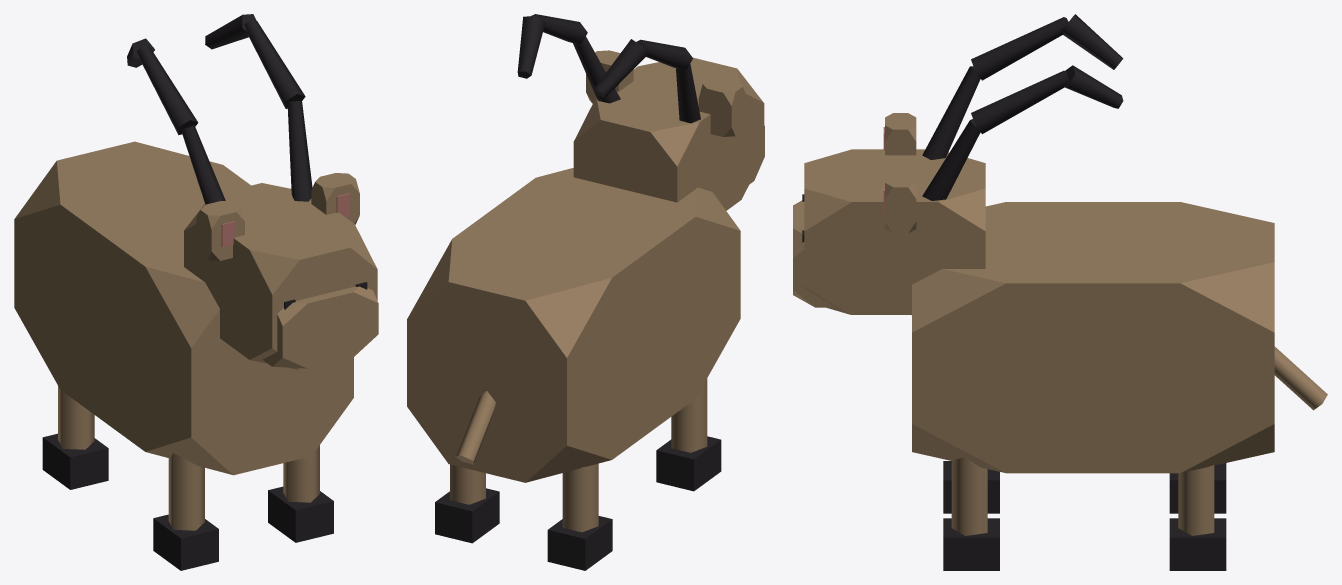
Rendered from original-ibex.glb.
3 renders of one model, left to right at view 1: azimuth 30°, elevation 25°; view 2: azimuth 150°, elevation 25°; view 3: azimuth 270°, elevation 25°, orthographic. The views are drawn at different scales.
Visible parts, largest first — view 1: ibex; view 2: ibex; view 3: ibex.
Part boxes in pixels (left/top/right/bottom): ibex: left=14, top=14, right=378, bottom=570; ibex: left=407, top=14, right=764, bottom=570; ibex: left=793, top=14, right=1327, bottom=570.
Size of the model in its own units: 0.6799 by 1.92 by 1.89.
